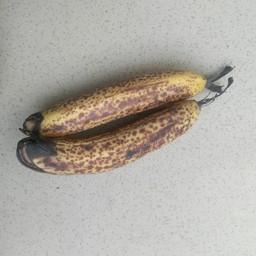Bad_banana: (15, 63, 221, 135), (10, 102, 206, 176)
